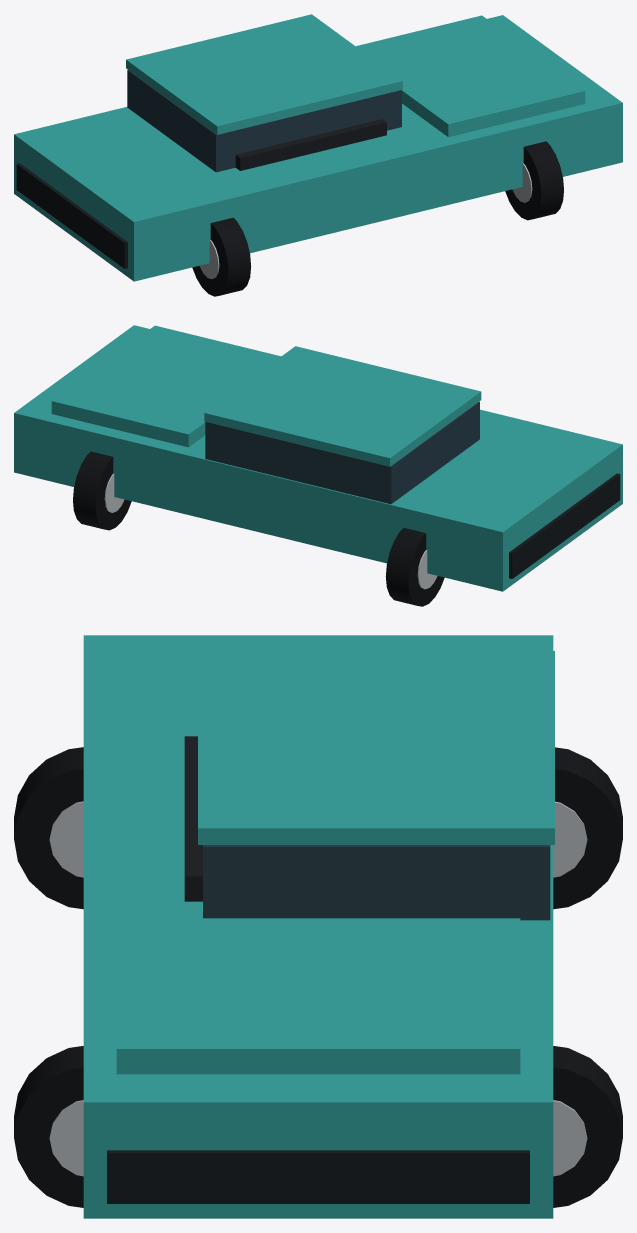
The model's file is lambo_temperario.glb.
3 renders of one model, top to bottom at view 1: azimuth 30°, elevation 25°; view 2: azimuth 150°, elevation 25°; view 3: azimuth 270°, elevation 25°, orthographic. The views are drawn at different scales.
Visible parts, largest first — view 1: body, roof, hood, cabin, rear_bumper, rear_right_wheel, front_right_wheel, interior; view 2: body, roof, hood, cabin, rear_bumper, rear_left_wheel, front_left_wheel; view 3: body, roof, hood, cabin, front_bumper, rear_right_wheel, front_left_wheel, front_right_wheel, rear_left_wheel, interior.
Boxes of the visible parts, x1,y1,x2,y2 form: body: [14, 15, 622, 281]; roof: [126, 14, 402, 134]; hood: [356, 15, 585, 137]; cabin: [127, 70, 401, 172]; rear_bumper: [16, 163, 127, 268]; rear_right_wheel: [192, 217, 251, 296]; front_right_wheel: [505, 141, 563, 220]; interior: [235, 119, 386, 170]; body: [14, 325, 622, 591]; roof: [204, 346, 481, 466]; hood: [51, 325, 280, 447]; cabin: [205, 401, 479, 503]; rear_bumper: [509, 473, 620, 578]; rear_left_wheel: [385, 528, 444, 606]; front_left_wheel: [73, 451, 131, 530]; body: [83, 635, 553, 1218]; roof: [198, 651, 554, 844]; hood: [116, 918, 520, 1074]; cabin: [203, 845, 550, 920]; front_bumper: [107, 1150, 529, 1203]; rear_right_wheel: [14, 747, 83, 909]; front_left_wheel: [553, 1046, 622, 1207]; front_right_wheel: [14, 1046, 83, 1207]; rear_left_wheel: [553, 747, 622, 909]; interior: [184, 736, 202, 901].
Size of the model in its own units: 4.81 by 1.29 by 2.62.
